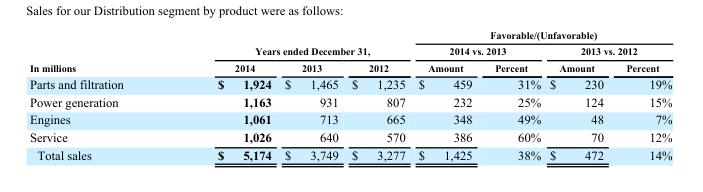table: (28, 28, 671, 161)
table column: (28, 28, 169, 161), (169, 28, 277, 161), (411, 28, 482, 161), (544, 28, 614, 161), (277, 28, 344, 161), (344, 28, 411, 161), (482, 28, 544, 161), (614, 28, 671, 161)
table column header: (28, 28, 671, 74)
table row: (28, 74, 671, 92), (28, 92, 671, 110), (28, 127, 671, 145), (28, 42, 671, 59), (28, 110, 671, 127), (28, 145, 671, 161), (28, 59, 671, 74), (28, 28, 671, 42)
table spanning cell: (169, 28, 411, 59), (28, 28, 169, 74), (411, 28, 671, 42), (411, 42, 544, 59), (544, 42, 671, 59)
